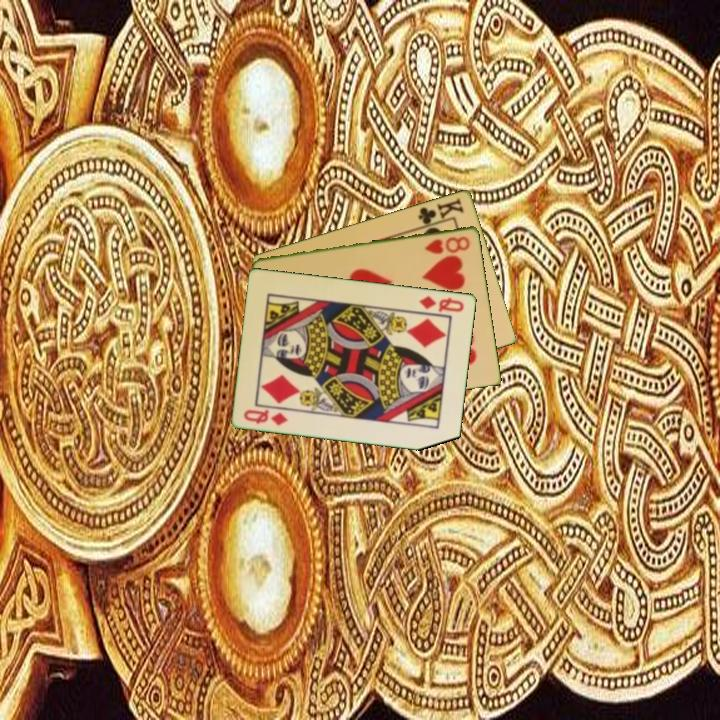8h: (422, 232, 473, 257)
Kc: (415, 194, 467, 230)
Qd: (415, 292, 467, 315), (240, 406, 291, 428)
